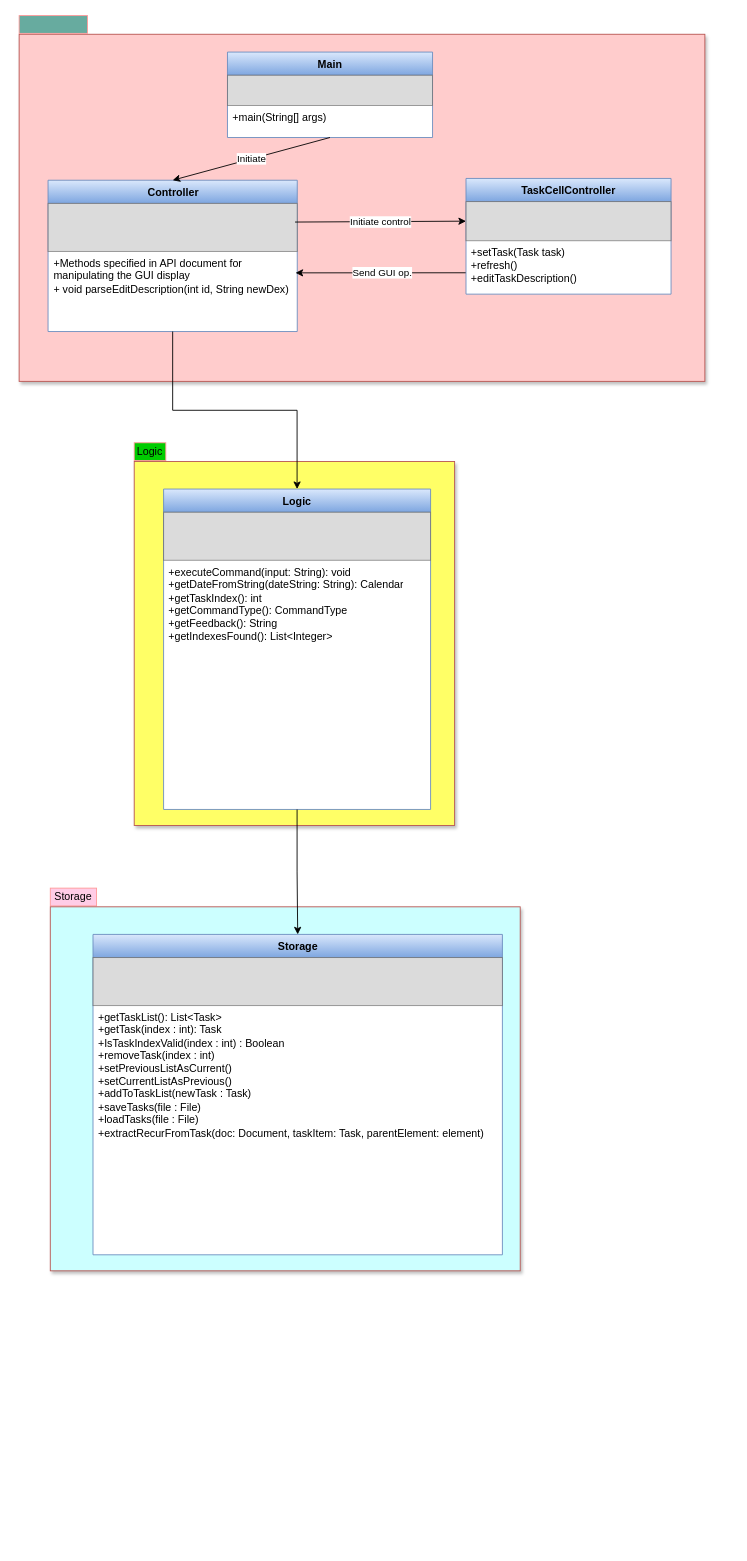
Some shapes in this 747 by 1561 pixel diagram are drawn without their labels. The centre of each missing label's shape, as x and y in pixels:
"+@FXML Controls -HashMap<Integer, TaskCellController> taskMap" goes at (x=172, y=226).
"+Controller parent -Task task" goes at (x=568, y=221).
"-_currentTaskList: List<Task> -_prevTaskList: List<Task>" goes at (x=297, y=981).
"GUI" goes at (x=52, y=24).
